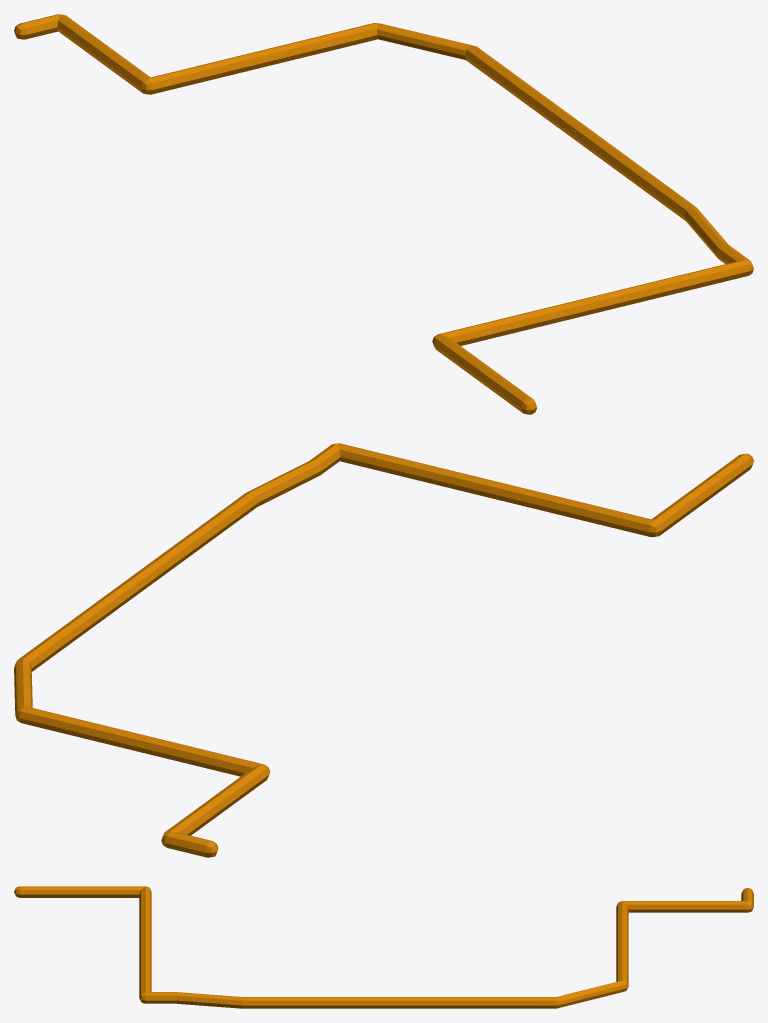
The picture shows the model from 3 angles, top to bottom: view 1: azimuth 30°, elevation 25°; view 2: azimuth 150°, elevation 25°; view 3: azimuth 270°, elevation 25°; orthographic projection. The views are drawn at different scales.
Size of the model in its own units: 439 by 20 by 1182.
